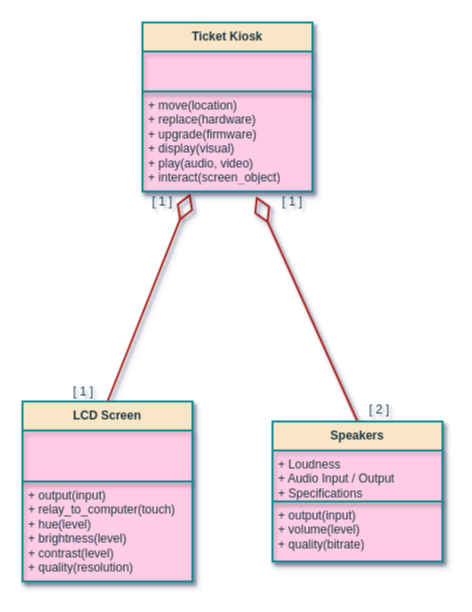
This 472x612 diagram has some shape labels left out. The centre of each missing label's shape, as x and y in pixels:
+ Location + Size: point 228,72
+ Touch Input + Visual Input / Output + Specifications: point 108,457
